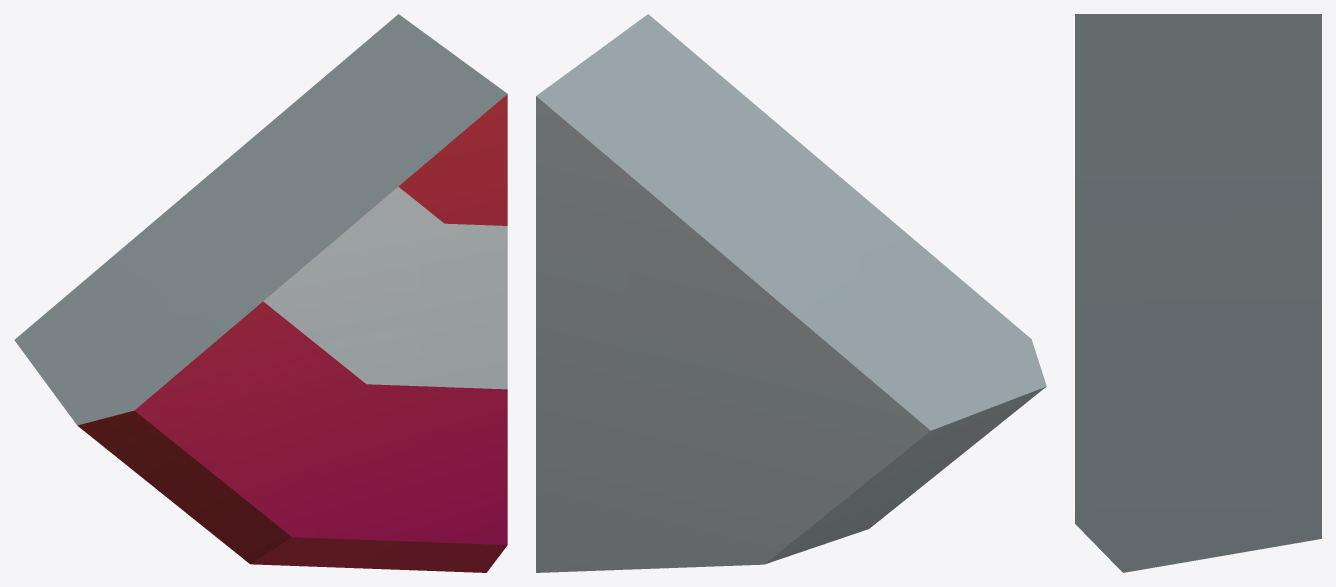
The model's file is kaykit-prototype-bits-target-pieces-d.glb.
3 renders of one model, left to right at view 1: azimuth 30°, elevation 25°; view 2: azimuth 150°, elevation 25°; view 3: azimuth 270°, elevation 25°, orthographic. The views are drawn at different scales.
Parts seen in each view (by area): view 1: target_pieces_D; view 2: target_pieces_D; view 3: target_pieces_D.
Part boxes in pixels (left/top/right/bottom): target_pieces_D: left=14, top=14, right=507, bottom=572; target_pieces_D: left=536, top=14, right=1046, bottom=572; target_pieces_D: left=1075, top=14, right=1321, bottom=572.
Size of the model in its own units: 0.433 by 0.5 by 0.2.
1 material, 1 textured.
